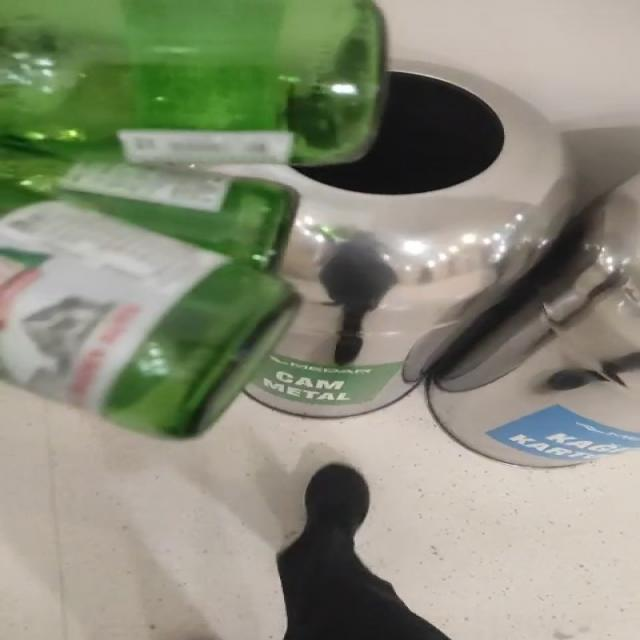glass: (0, 0, 385, 438)
